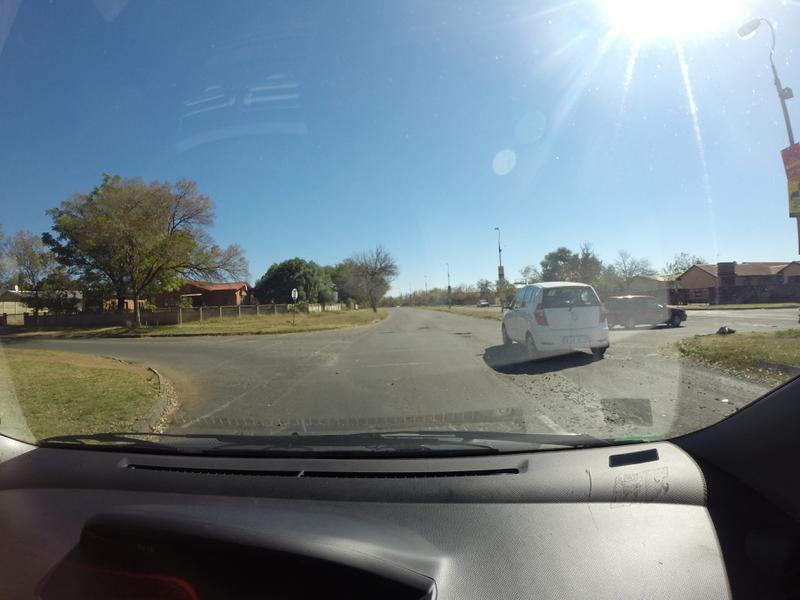pothole: (454, 330, 476, 335), (378, 329, 398, 333), (416, 327, 436, 330)
